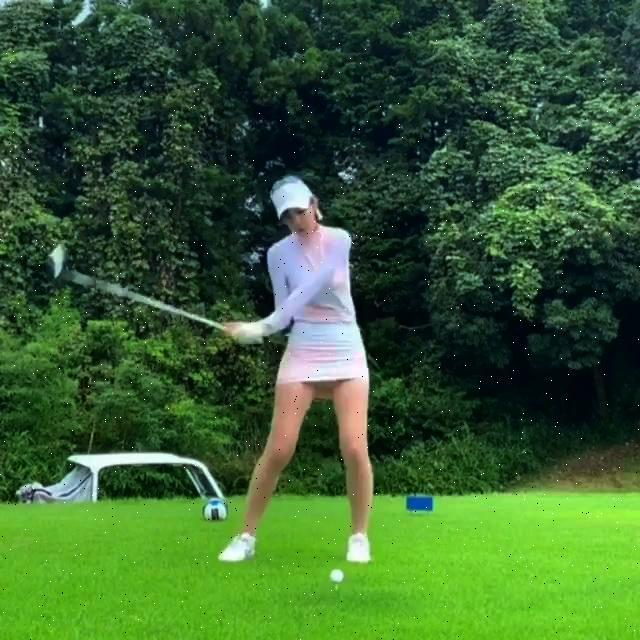ClubHandle: (51, 245, 229, 333)
ClubHead: (51, 245, 65, 276)
GolfBall: (330, 569, 344, 582)
